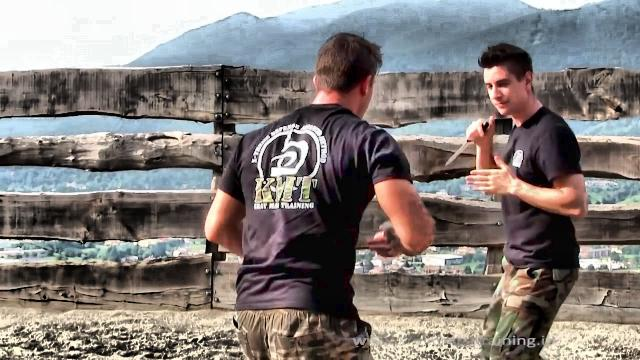knife: (440, 111, 498, 169)
